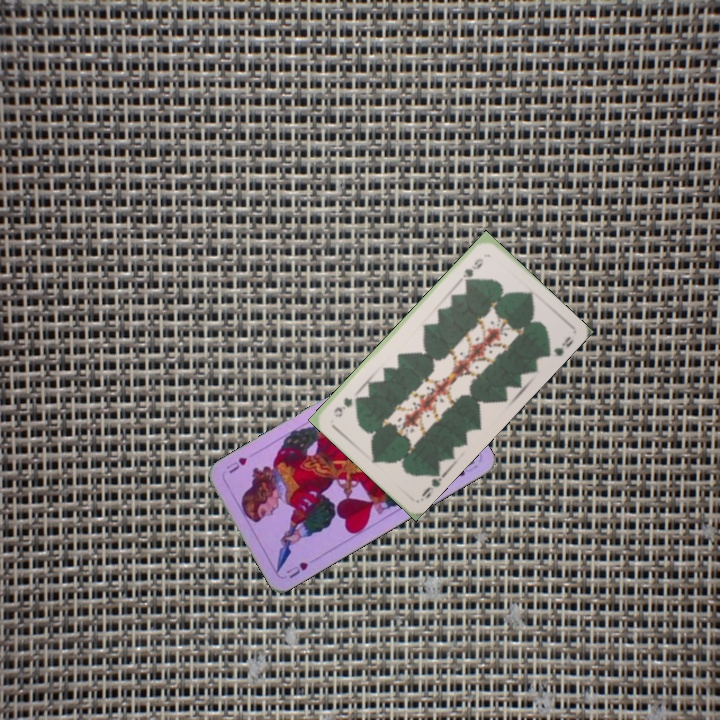G9: (417, 466, 447, 501), (459, 254, 486, 285)
HU: (282, 557, 310, 581)
